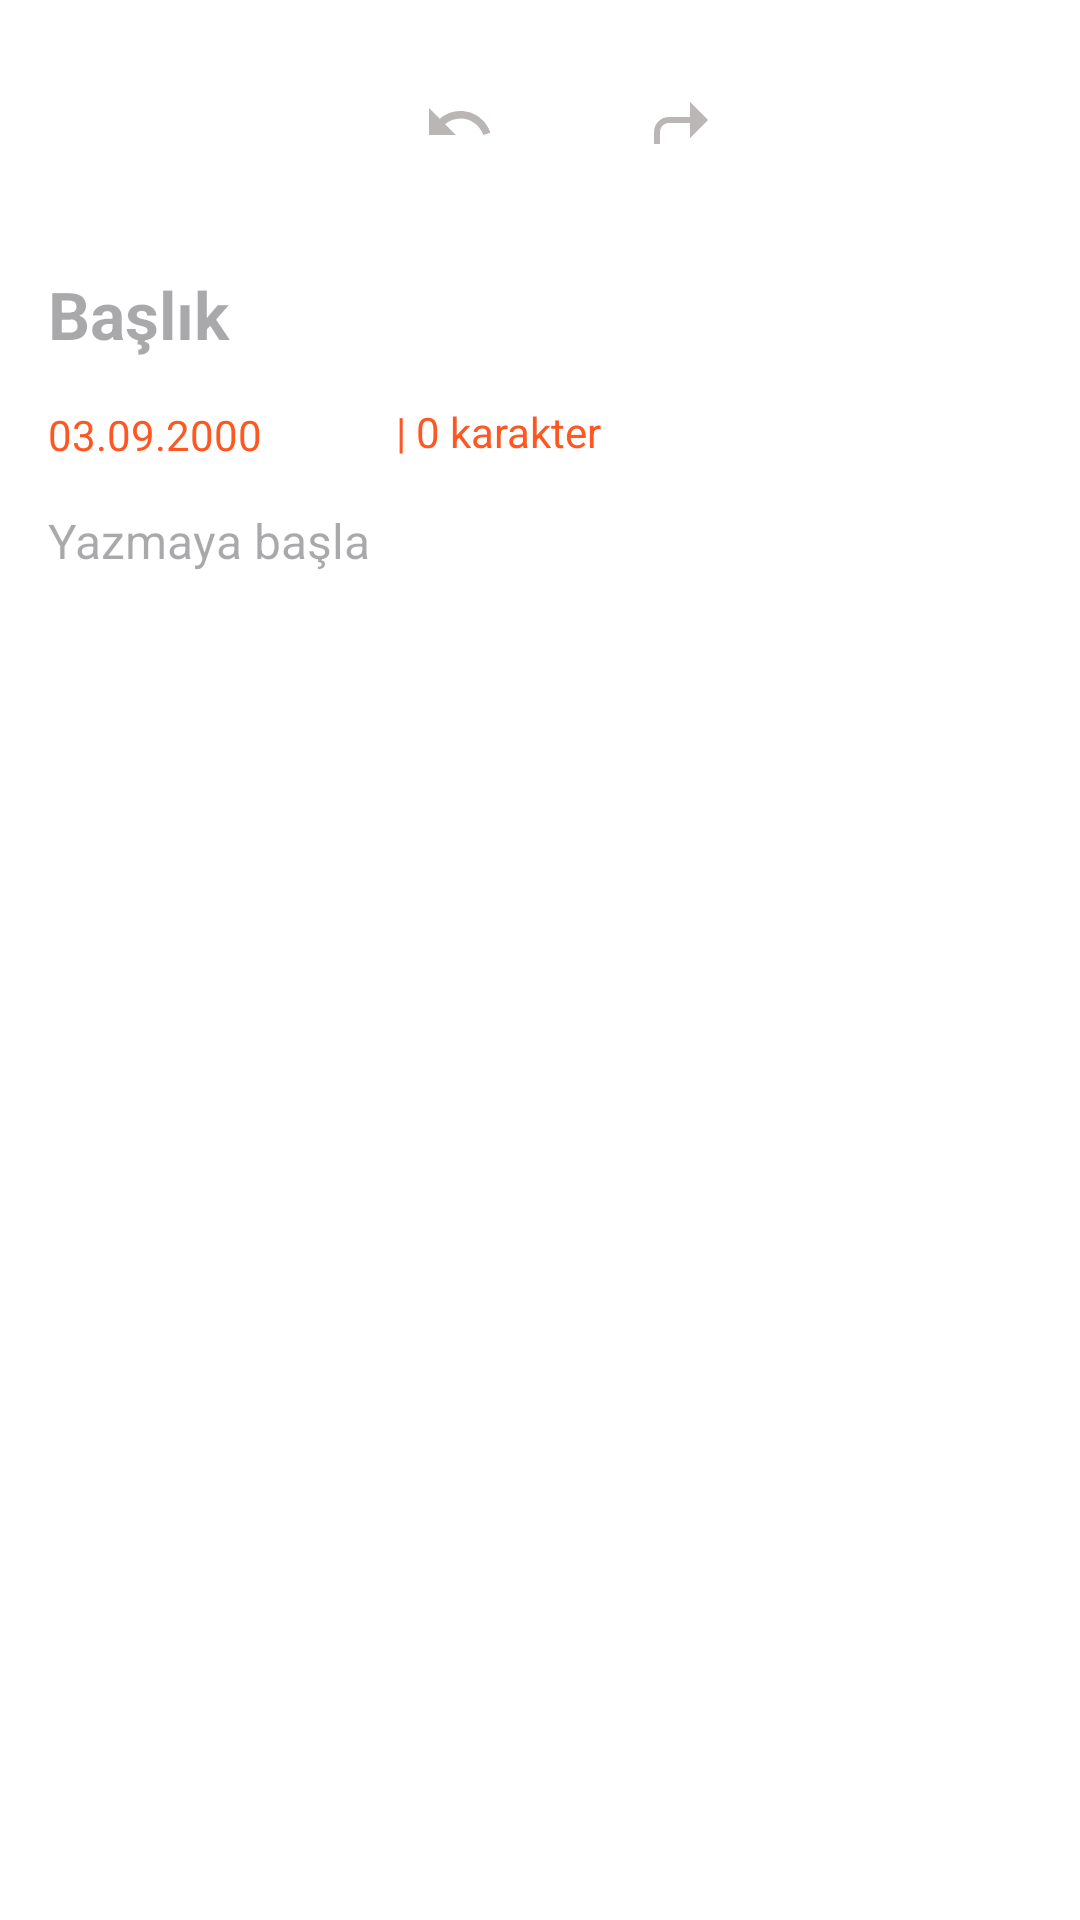

Point at icon controls on the screen. Image size 1080px×1920px, points as (x,y).
shortcut gone: (681,123)
undo gone: (459,121)
